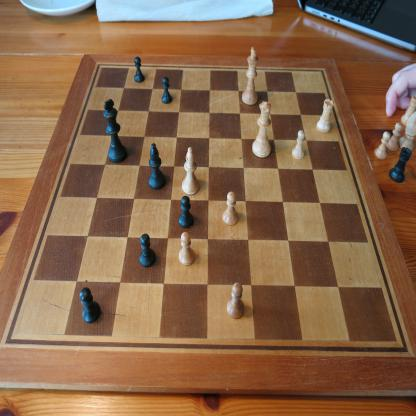black-bishop: (148, 142, 166, 191)
black-king: (103, 98, 128, 164)
black-pawn: (80, 286, 101, 324), (139, 233, 156, 268), (178, 195, 194, 229), (133, 56, 146, 83), (161, 76, 173, 104)
black-rook: (388, 146, 412, 184)
white-bishop: (182, 147, 199, 196)
white-king: (242, 46, 259, 106)
white-knight: (398, 110, 415, 152)
white-pawn: (226, 282, 245, 320), (222, 191, 238, 226), (179, 232, 195, 266), (373, 131, 391, 161), (385, 122, 403, 151), (292, 129, 306, 160)
white-queen: (252, 100, 273, 159)
white-rook: (316, 98, 334, 134), (400, 94, 416, 126)
